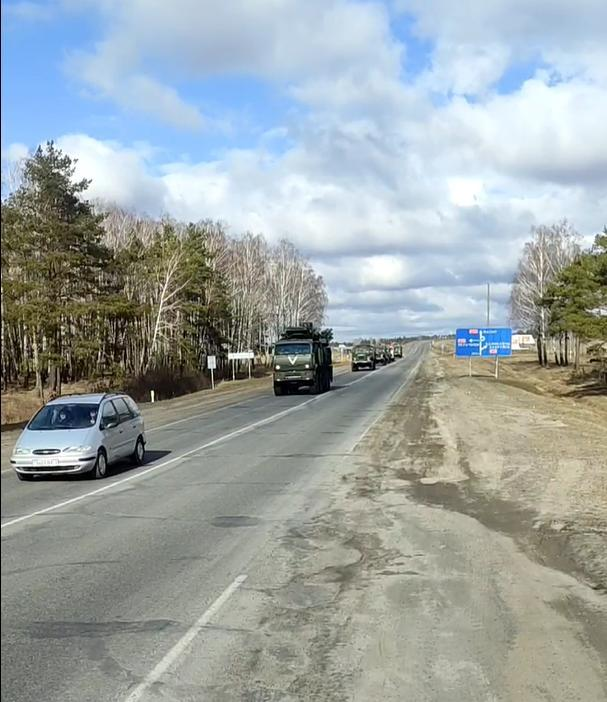car: (16, 389, 146, 483)
truck: (266, 316, 337, 400), (350, 343, 376, 372)
